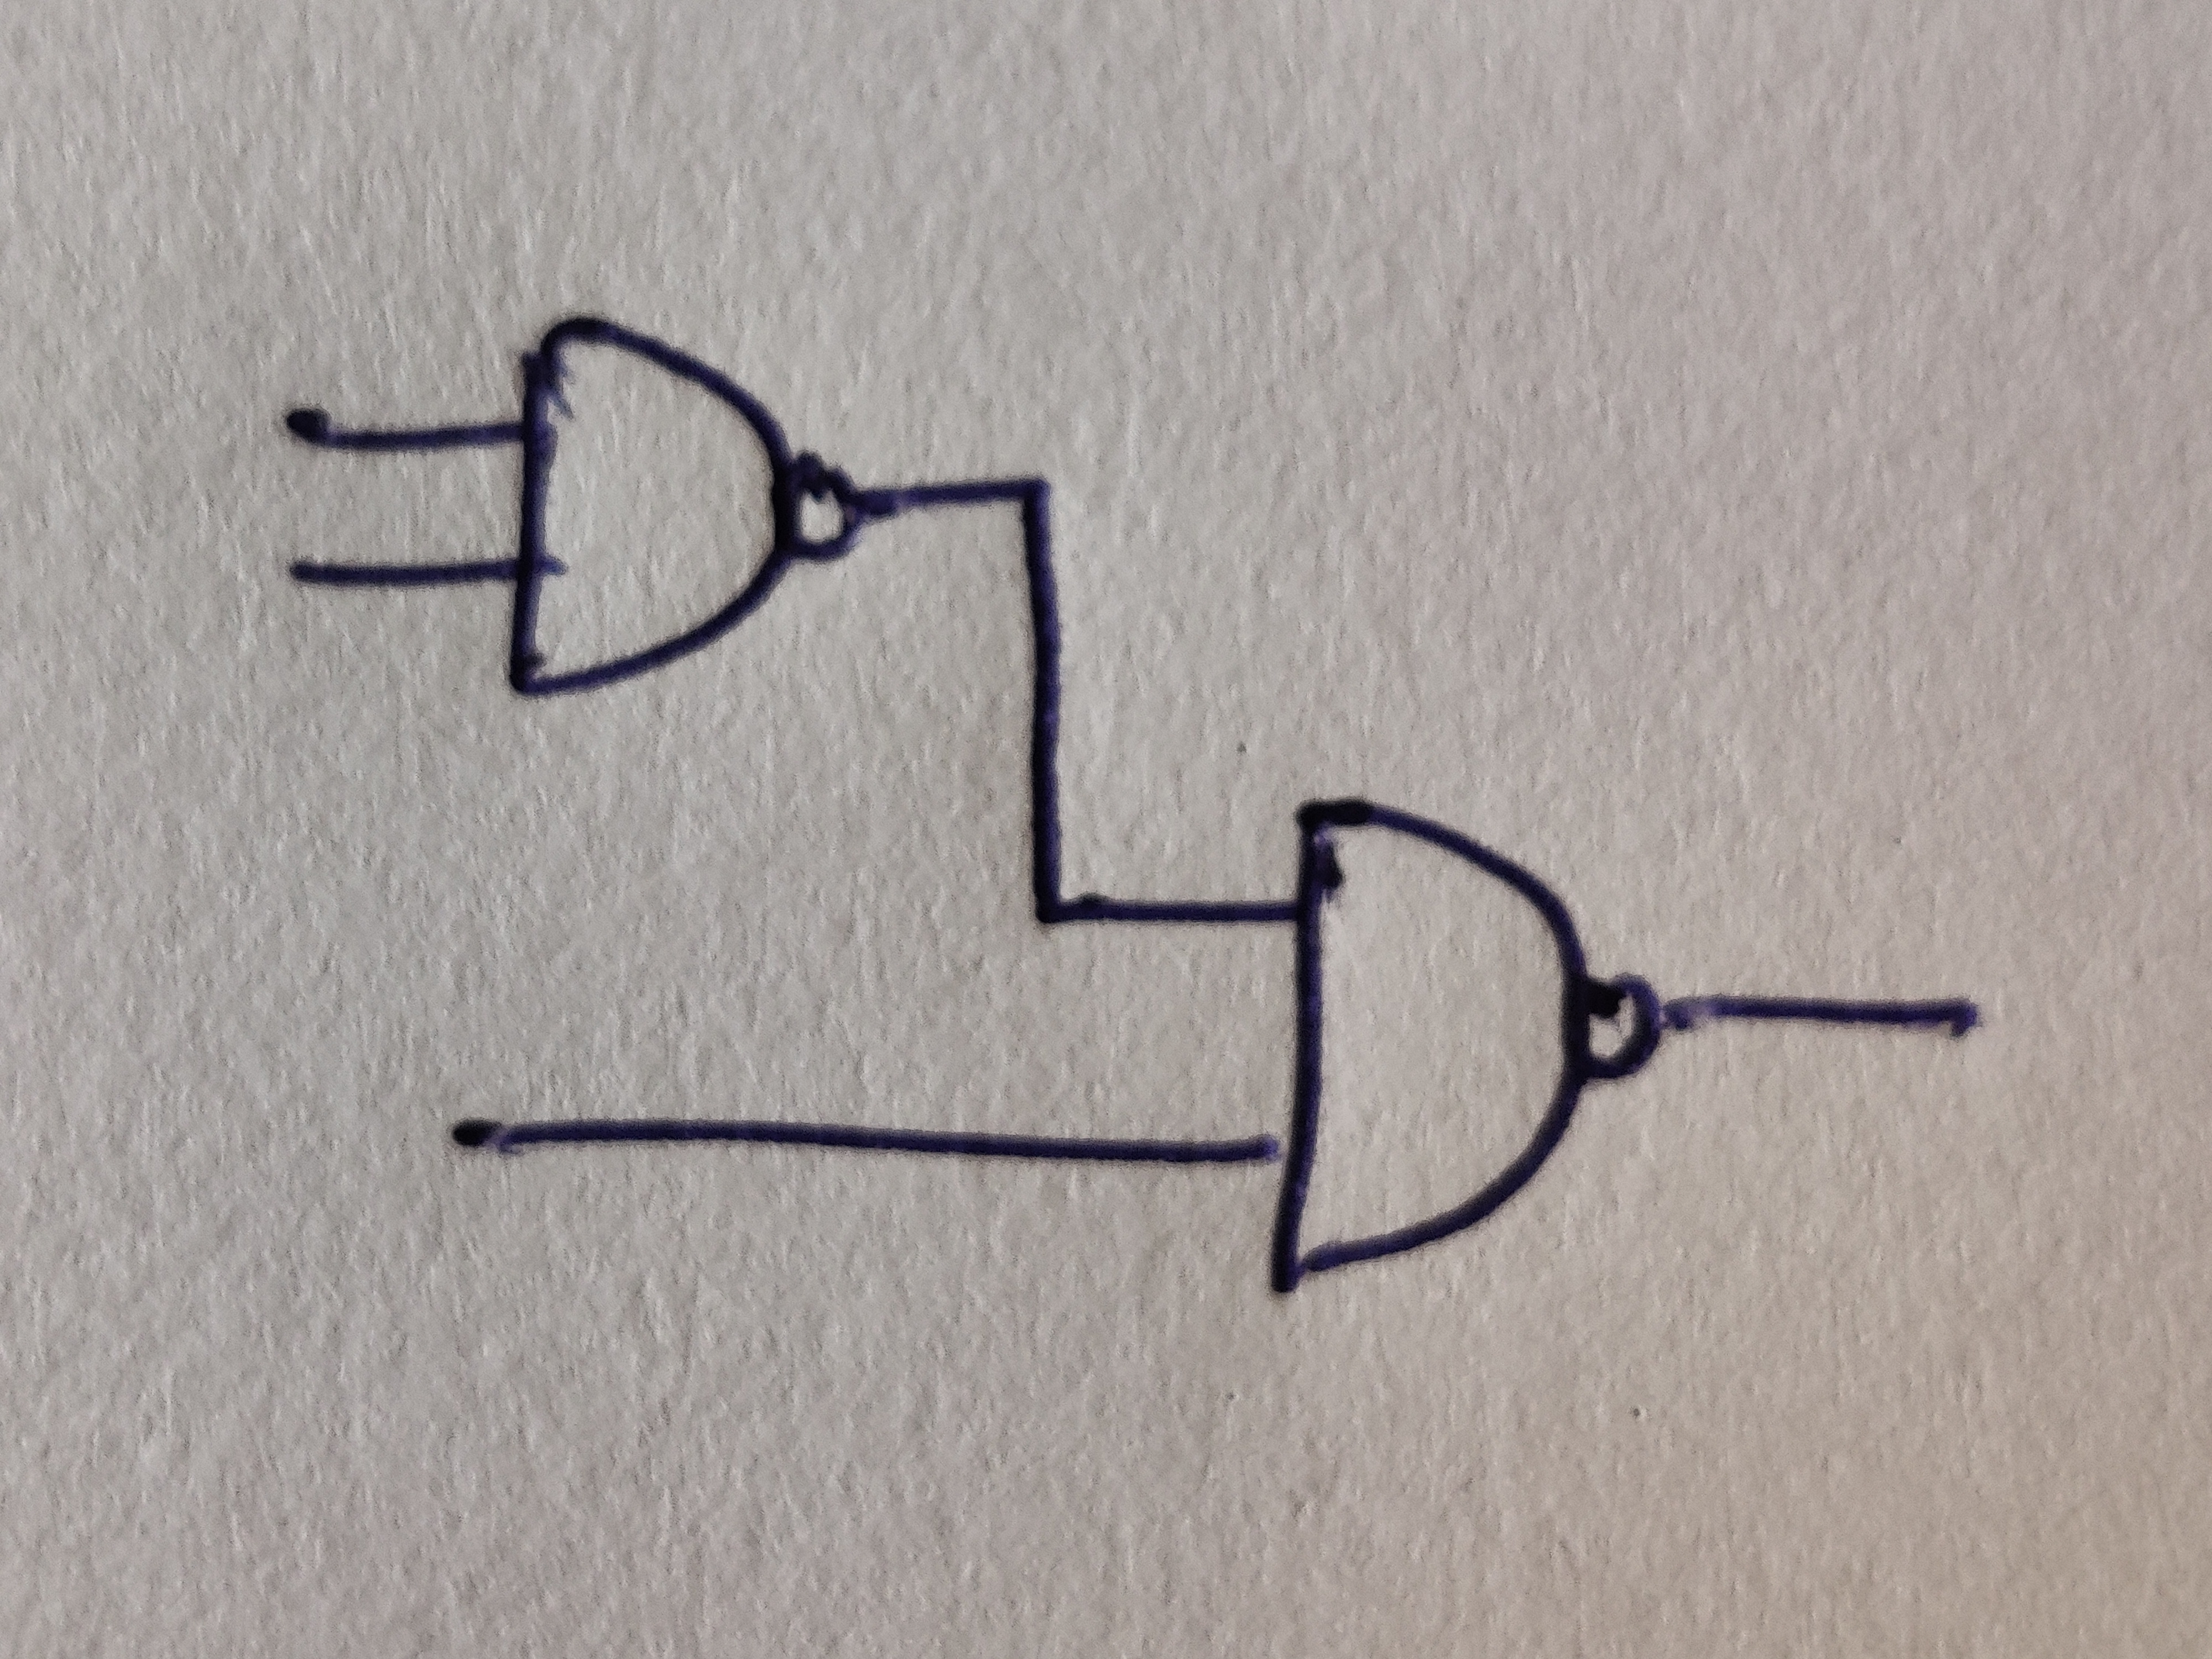and: (1271, 800, 1587, 1295), (510, 319, 789, 695)
not: (1578, 974, 1662, 1080), (787, 448, 859, 563)
